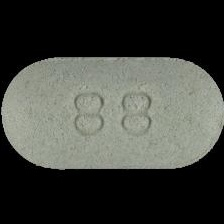35356-955: (0, 0, 224, 224)
